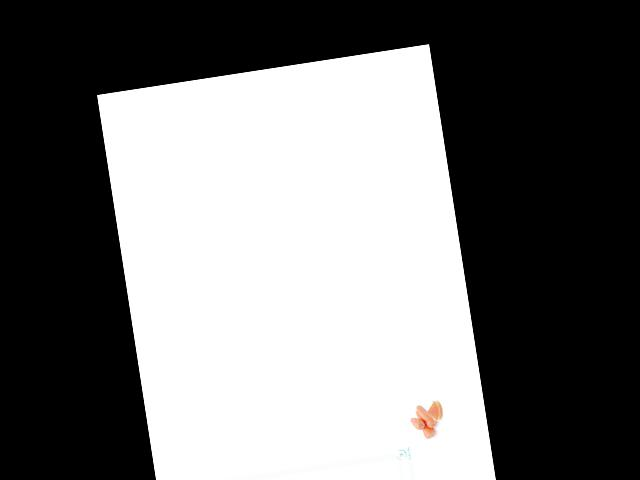carrot: (414, 401, 436, 430)
